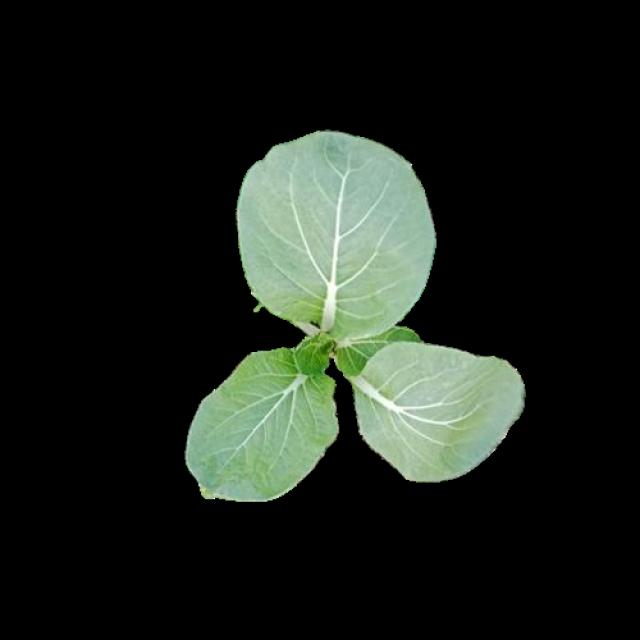healthy: (184, 128, 525, 495)
not-mature: (187, 130, 527, 498)
